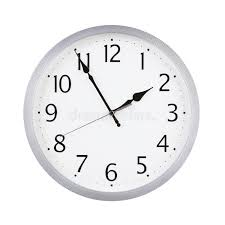alarm_clock: (19, 22, 199, 199), (19, 27, 199, 199)
